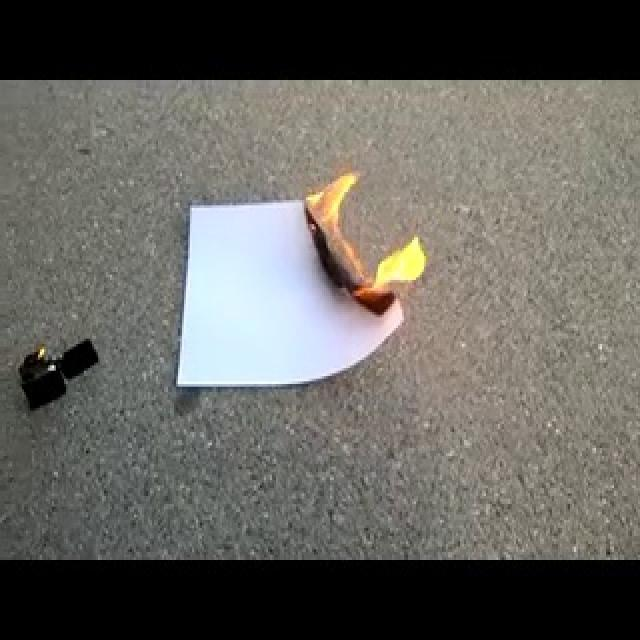Fire: (311, 159, 441, 327)
